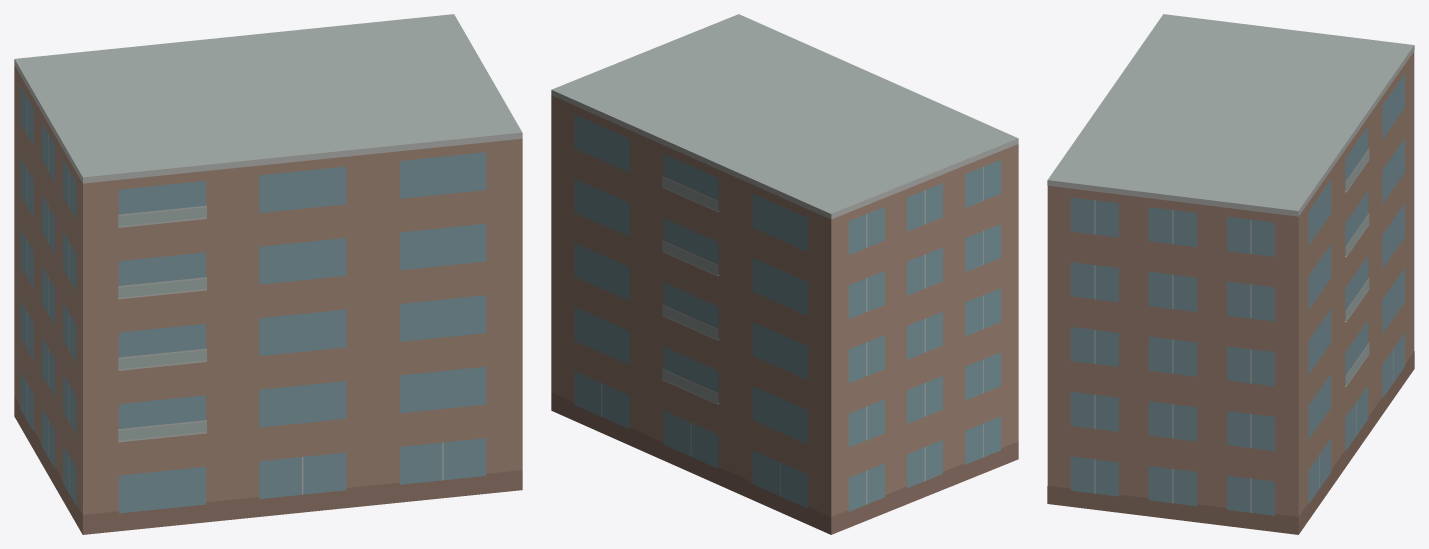
The model's file is survey-upis-32954810.glb.
3 renders of one model, left to right at view 1: azimuth 30°, elevation 25°; view 2: azimuth 150°, elevation 25°; view 3: azimuth 270°, elevation 25°, orthographic. The views are drawn at different scales.
Parts seen in each view (by area): view 1: survey-upis-32954810.tmp; view 2: survey-upis-32954810.tmp; view 3: survey-upis-32954810.tmp.
Boxes of the visible parts, x1,y1,x2,y2 form: survey-upis-32954810.tmp: (14, 14, 522, 534); survey-upis-32954810.tmp: (551, 14, 1018, 534); survey-upis-32954810.tmp: (1047, 14, 1414, 534).
Bounding box in the file's own units: 18.55 × 14.2 × 14.6.
